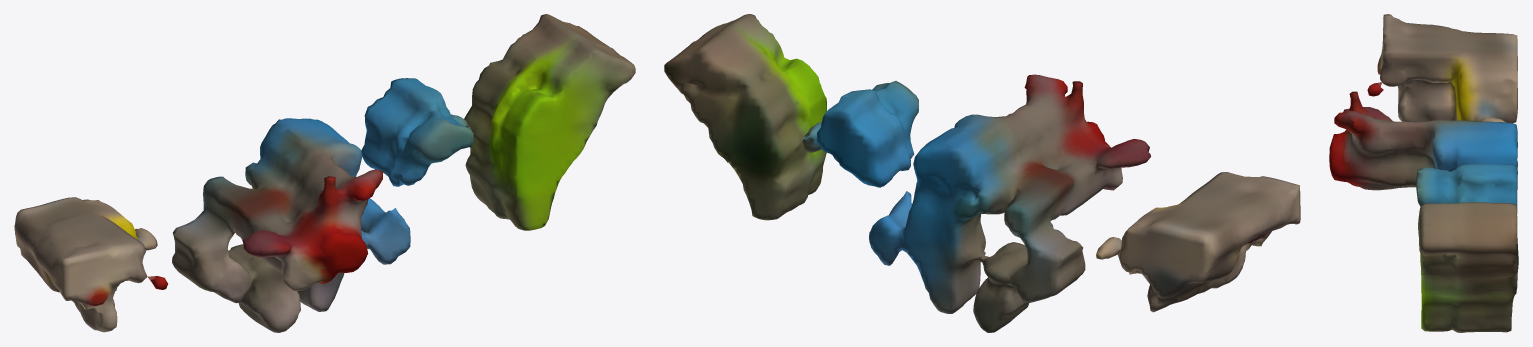
The model's file is blocks.glb.
3 views of the same model, side by side, from view 1: azimuth 30°, elevation 25°; view 2: azimuth 150°, elevation 25°; view 3: azimuth 270°, elevation 25° (orthographic). The views are drawn at different scales.
Size of the model in its own units: 0.9992 by 0.3645 by 0.3034.
